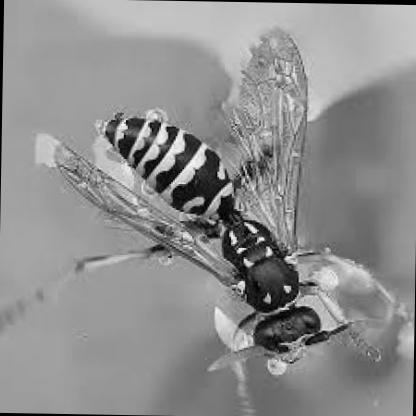other: (80, 28, 391, 395)
